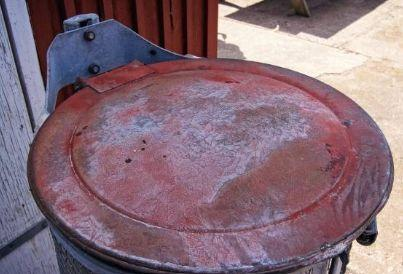metal: (26, 14, 395, 274)
